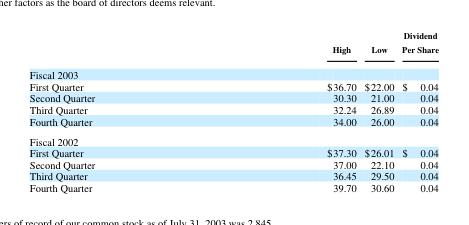table: (28, 28, 438, 193)
table column: (28, 28, 210, 193), (210, 28, 359, 193), (397, 28, 438, 193), (359, 28, 397, 193)
table column header: (28, 28, 438, 60)
table projected row header: (28, 60, 438, 80), (28, 130, 438, 146)
table row: (28, 28, 438, 60), (28, 60, 438, 80), (28, 114, 438, 130), (28, 130, 438, 146), (28, 91, 438, 103), (28, 146, 438, 158), (28, 169, 438, 181), (28, 181, 438, 193), (28, 80, 438, 91), (28, 103, 438, 114), (28, 158, 438, 169)
